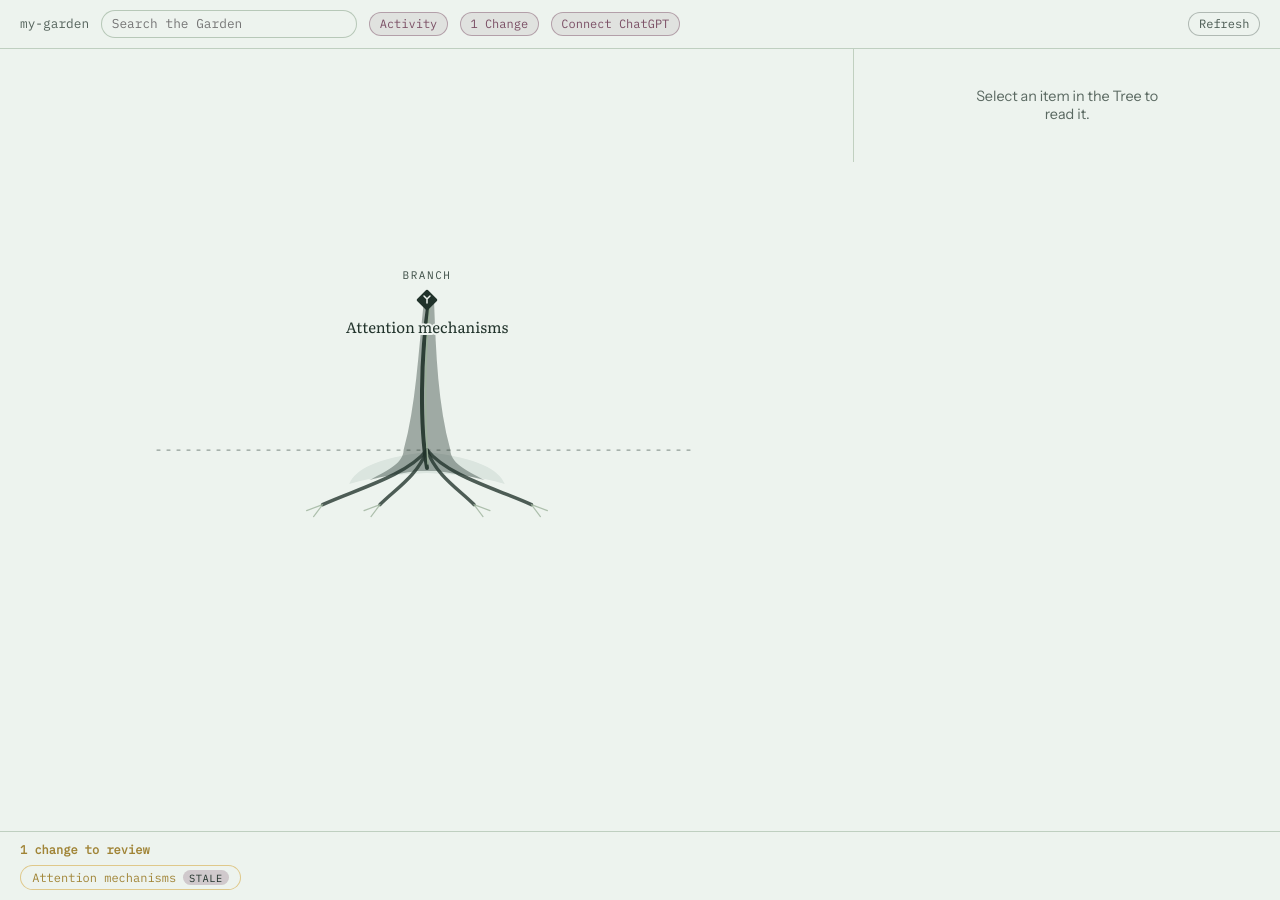
Test case: a change whose target moved on since it was proposed › shows Stale in the tray and refuses to approve
Check: the element named "change tray" is shown, box [0,831,1279,899]
Check: the text "Stale" is shown, box [183,870,229,885]
Click the button "Attention mechanisms Stale": (131, 878) [20,865,241,890]
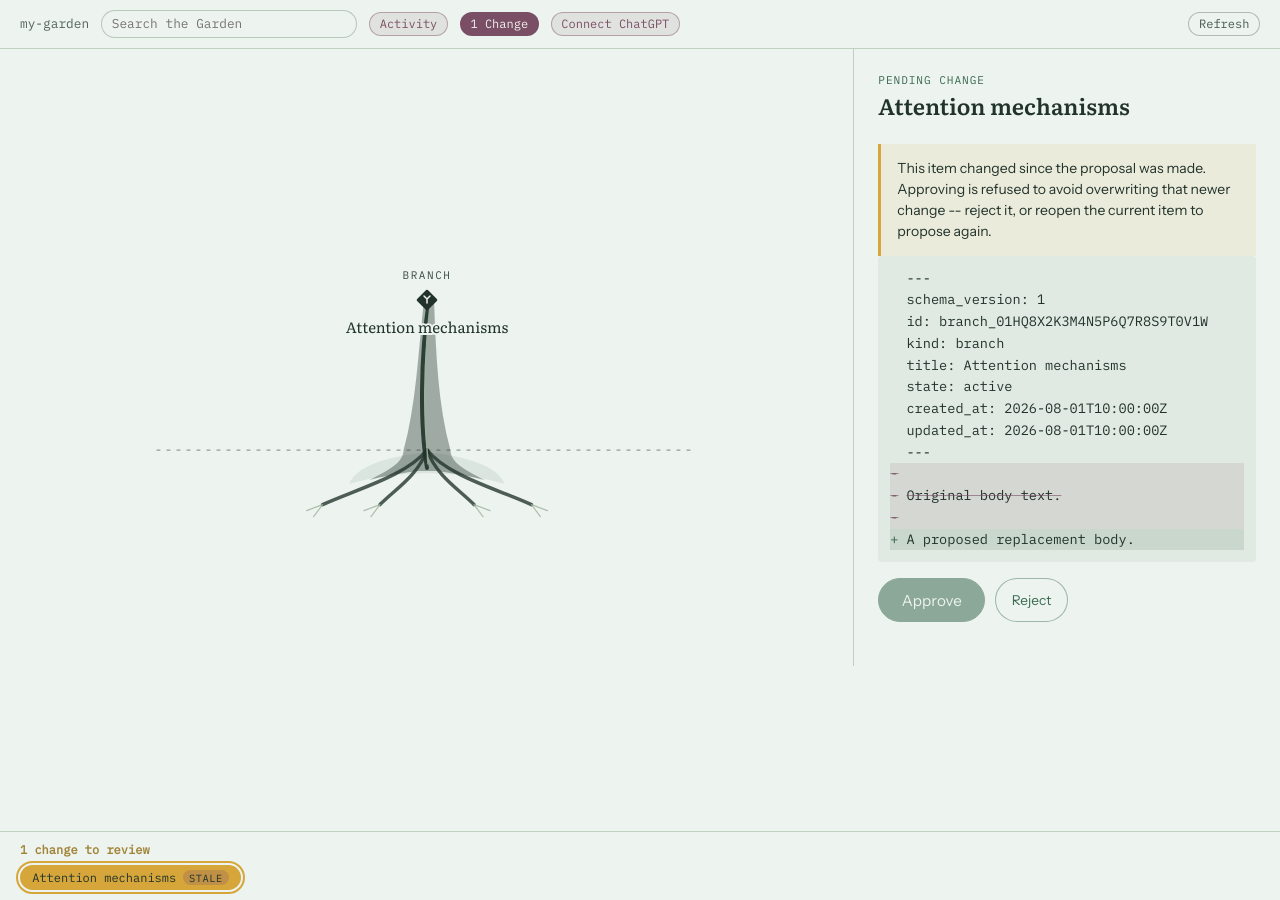
Check: the button "Approve" is disabled, box [878,578,985,622]
Click the button "Reject": (1032, 600) [995,578,1068,622]
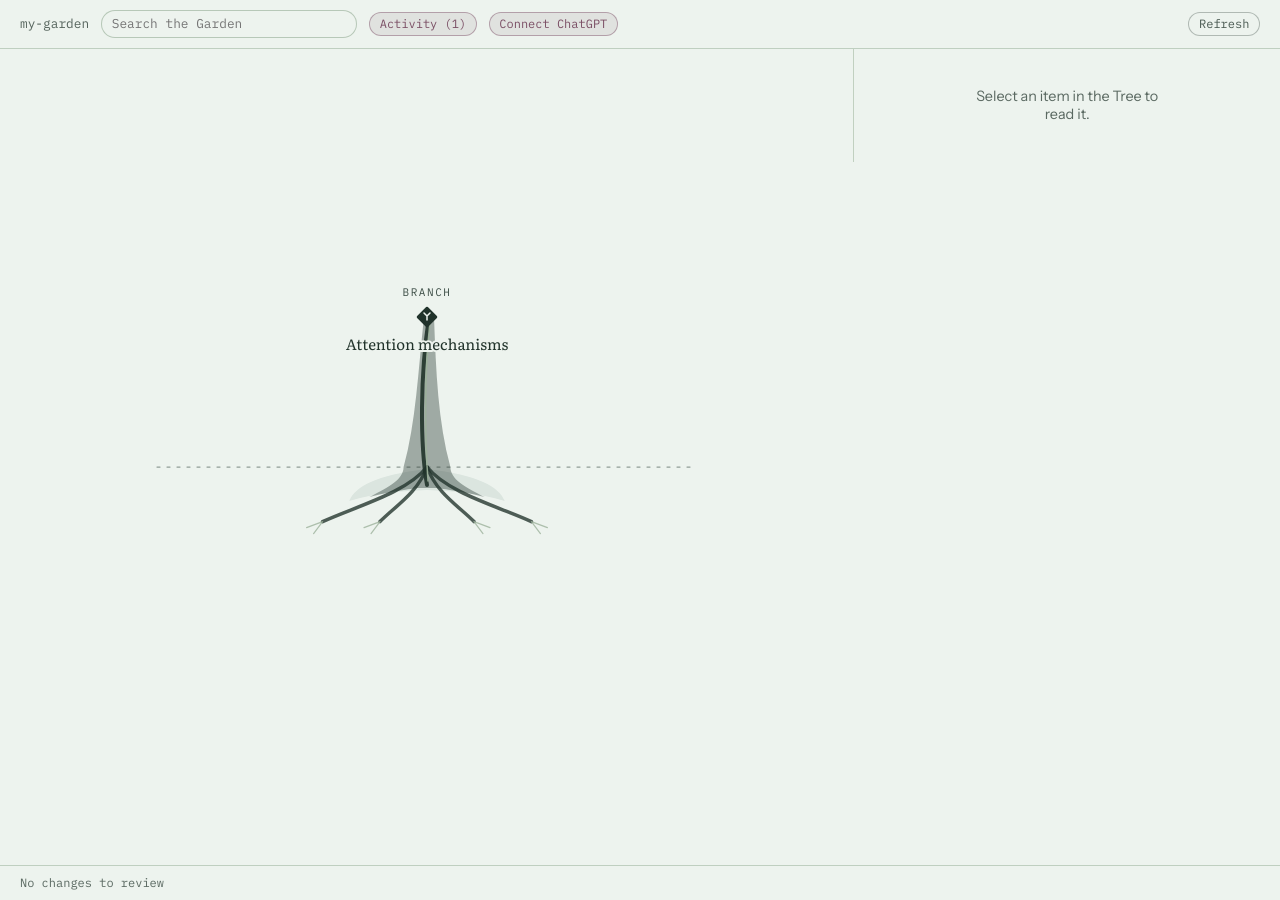
Check: the text "No changes to review" is shown, box [0,865,1279,899]
